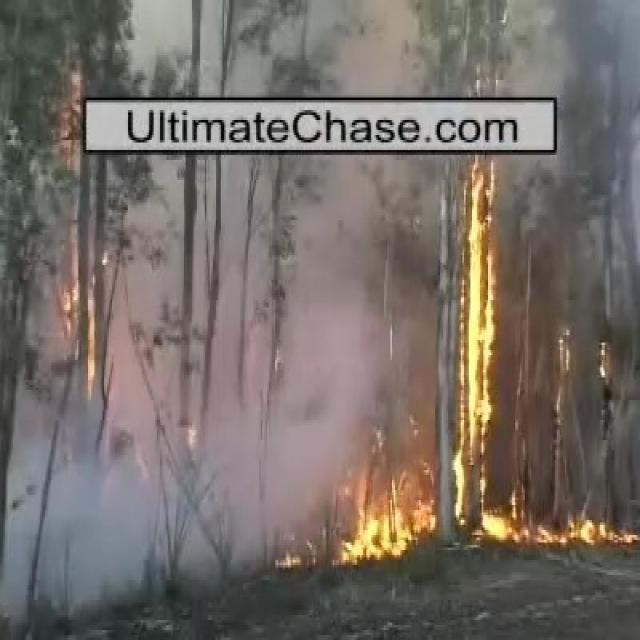fire: (456, 160, 498, 522), (337, 478, 435, 562)
smoke: (54, 435, 131, 606), (496, 3, 619, 92)
